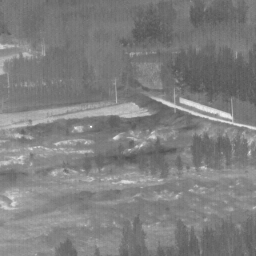aircraft: (90, 126, 92, 128)
